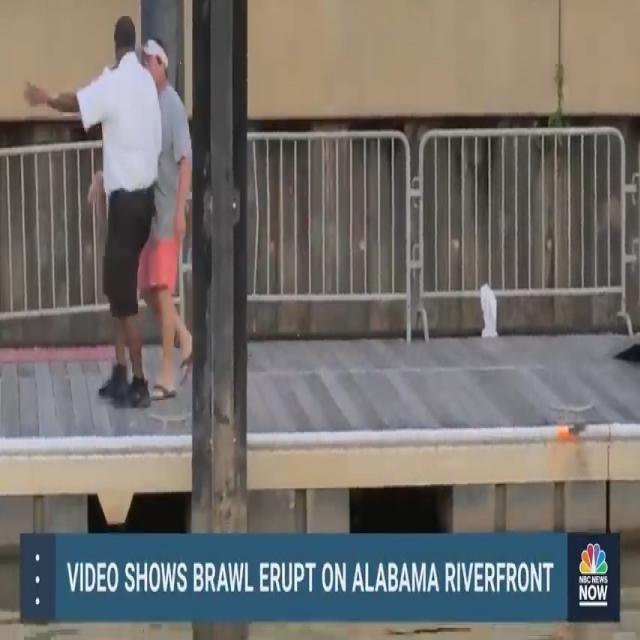non-fight: (21, 13, 194, 410)
